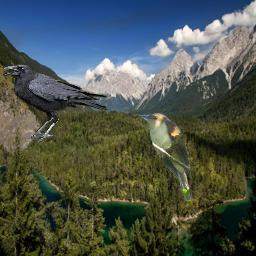Crow: (3, 64, 109, 142)
Cuckoo: (137, 112, 194, 206)
